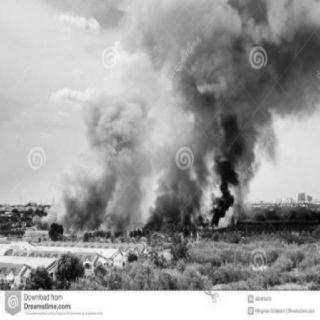Fire: (194, 221, 204, 231), (211, 223, 220, 229)
Smoke: (148, 3, 318, 115), (218, 117, 234, 215)
